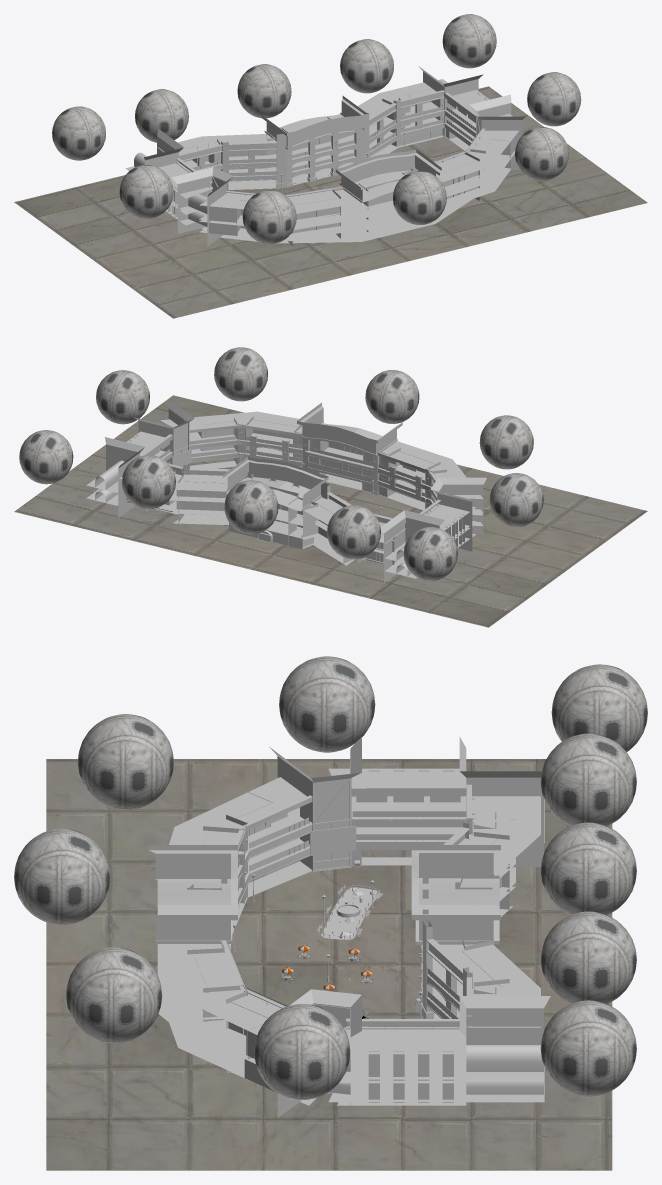
The picture shows the model from 3 angles, top to bottom: view 1: azimuth 30°, elevation 25°; view 2: azimuth 150°, elevation 25°; view 3: azimuth 270°, elevation 25°; orthographic projection. The views are drawn at different scales.
Parts seen in each view (by area): view 1: Tile01, Outlet3, Outlet1, Outlet2, Outlet4, Sphere005, Sphere006, Sphere008, Sphere002, Sphere004, Sphere009, Sphere007 (+7 smaller); view 2: Tile01, Outlet3, Outlet1, Outlet2, Outlet4, Sphere002, Sphere009, Sphere010, Sphere008, Sphere004, Sphere007, Sphere003 (+7 smaller); view 3: Tile01, Outlet3, Outlet1, Outlet4, Outlet2, Sphere001, Sphere007, Sphere002, Sphere005, Sphere006, Sphere003, Sphere010 (+7 smaller).
Part boxes in pixels (left/top/right/bottom): Tile01: left=14, top=86, right=647, bottom=318; Outlet3: left=199, top=128, right=519, bottom=246; Outlet1: left=157, top=82, right=444, bottom=189; Outlet2: left=125, top=129, right=233, bottom=246; Outlet4: left=418, top=66, right=525, bottom=169; Sphere005: left=442, top=14, right=496, bottom=68; Sphere006: left=527, top=72, right=581, bottom=126; Sphere008: left=340, top=39, right=393, bottom=93; Sphere002: left=242, top=190, right=296, bottom=244; Sphere004: left=52, top=106, right=105, bottom=160; Sphere009: left=237, top=64, right=291, bottom=118; Sphere007: left=515, top=127, right=568, bottom=180; Tile01: left=14, top=395, right=647, bottom=627; Outlet3: left=160, top=402, right=483, bottom=526; Outlet1: left=119, top=456, right=406, bottom=565; Outlet2: left=380, top=477, right=486, bottom=582; Outlet4: left=86, top=400, right=194, bottom=517; Sphere002: left=479, top=415, right=533, bottom=469; Sphere009: left=224, top=480, right=278, bottom=534; Sphere010: left=327, top=505, right=380, bottom=559; Sphere008: left=122, top=455, right=175, bottom=509; Sphere004: left=403, top=527, right=457, bottom=580; Sphere007: left=214, top=347, right=267, bottom=401; Sphere003: left=489, top=473, right=543, bottom=526; Tile01: left=46, top=759, right=612, bottom=1170; Outlet3: left=148, top=777, right=316, bottom=1105; Outlet1: left=411, top=784, right=540, bottom=1027; Outlet4: left=277, top=989, right=550, bottom=1117; Outlet2: left=269, top=737, right=544, bottom=871; Sphere001: left=14, top=828, right=110, bottom=924; Sphere007: left=66, top=947, right=162, bottom=1043; Sphere002: left=77, top=714, right=173, bottom=810; Sphere005: left=540, top=1000, right=636, bottom=1096; Sphere006: left=254, top=1003, right=350, bottom=1099; Sphere003: left=279, top=656, right=375, bottom=752; Sphere010: left=540, top=733, right=636, bottom=825.
Bounding box in the file's own units: 182 × 30.76 × 118.
